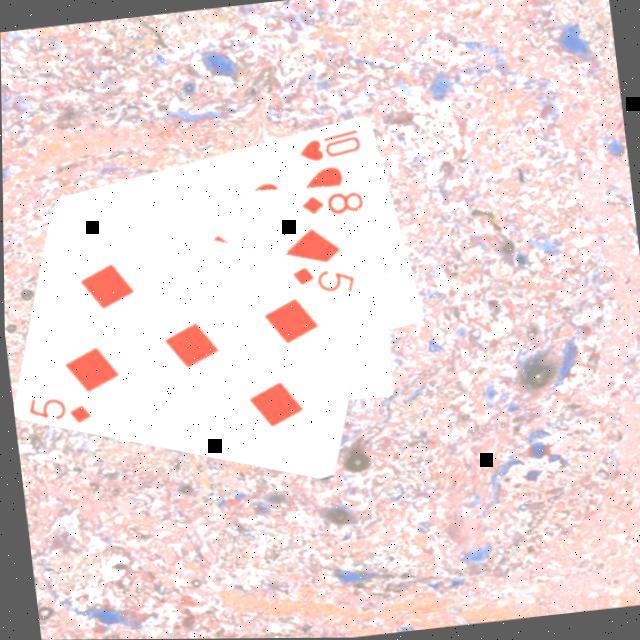10H: (296, 126, 366, 168)
5D: (288, 258, 362, 303), (24, 389, 97, 433)
8D: (298, 188, 369, 223)
